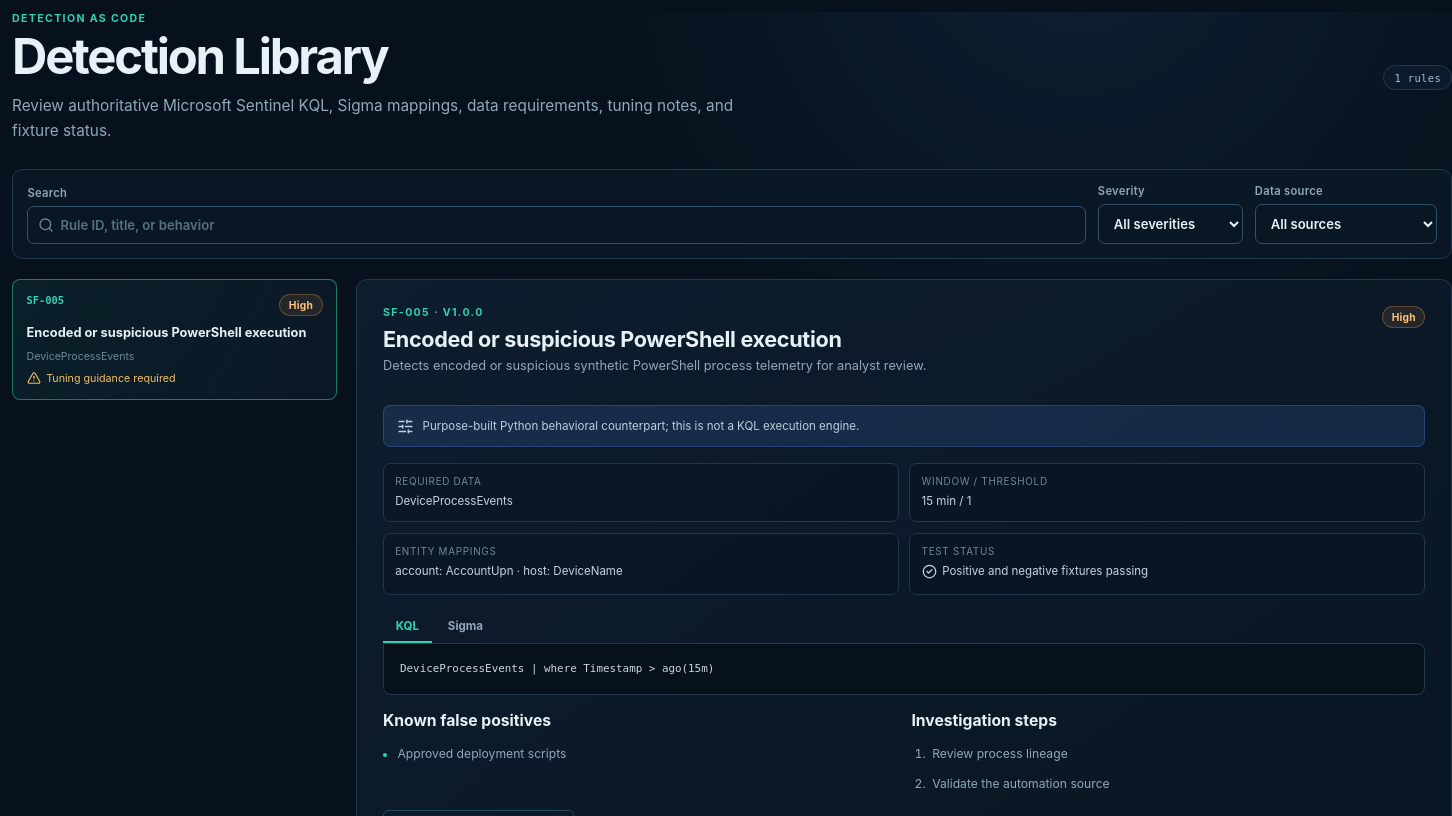
switches between authoritative KQL and available Sigma content
The width and height of the screenshot is (1452, 816).
Expected: the heading "Encoded or suspicious PowerShell execution" is shown, [383, 326, 842, 352]
Expected: the text "DeviceProcessEvents | where Timestamp > ago(15m)" is shown, [400, 662, 714, 675]
Click the tab "Sigma": (465, 627) [435, 611, 496, 643]
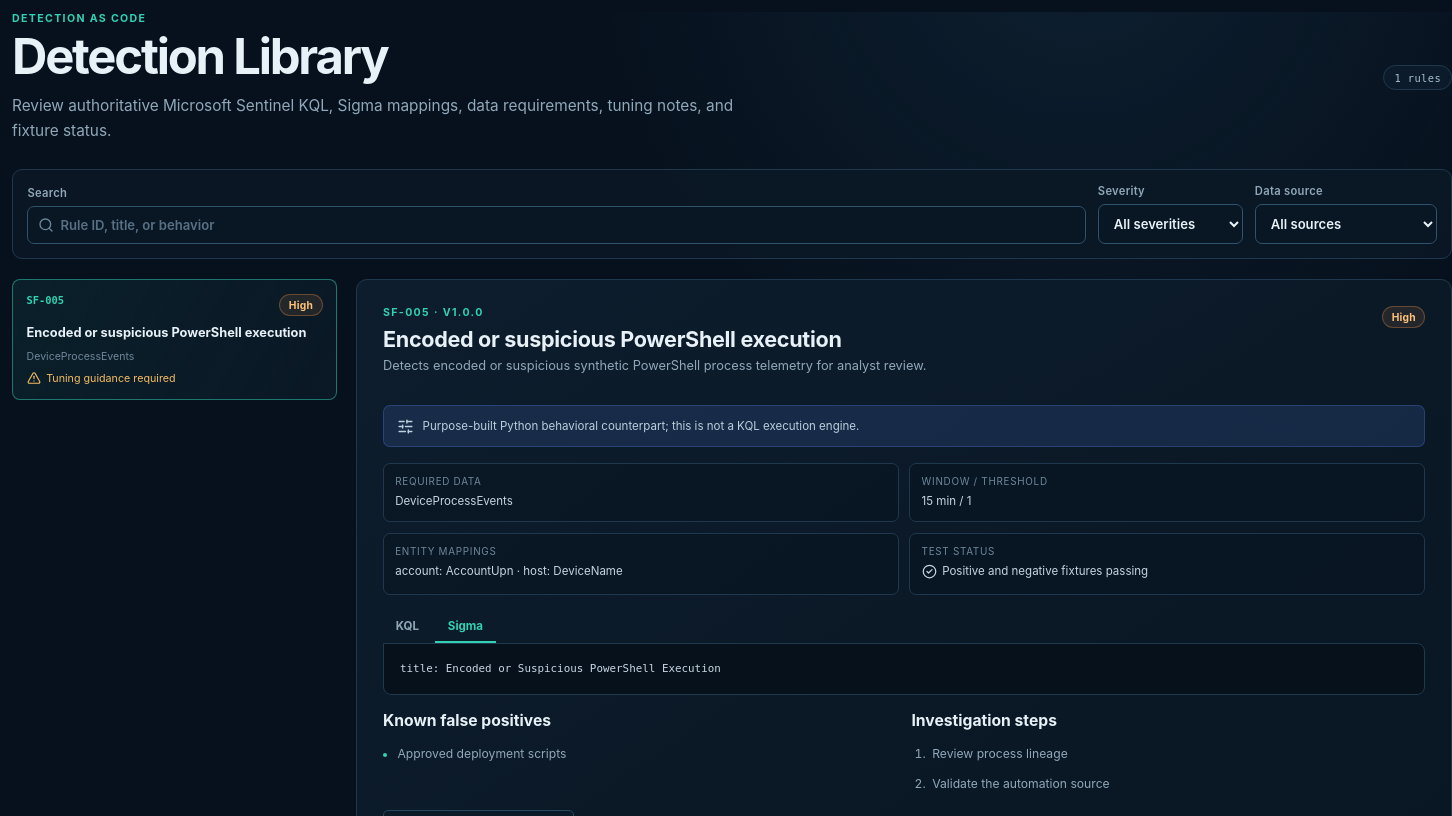
Expected: the text "not a KQL execution engine" is shown, [423, 419, 859, 433]
Now the text "title: Encoded or Suspicious PowerShell Execution" is shown, box [400, 662, 721, 675]
